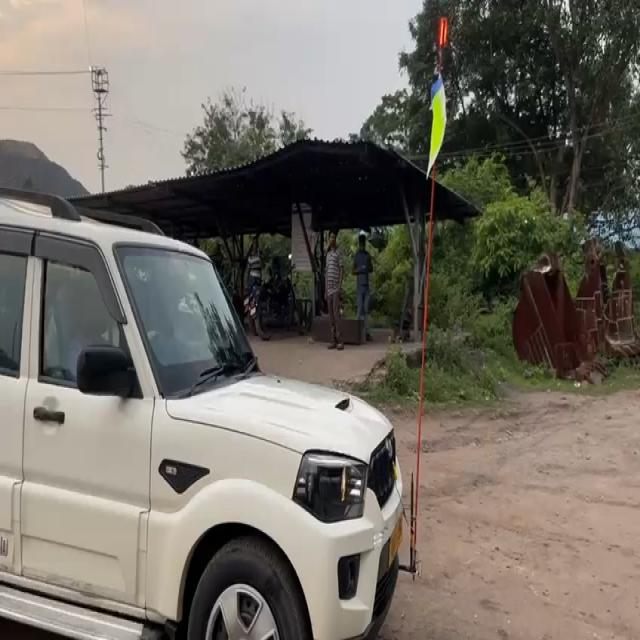light_vehicle: (0, 189, 406, 640)
